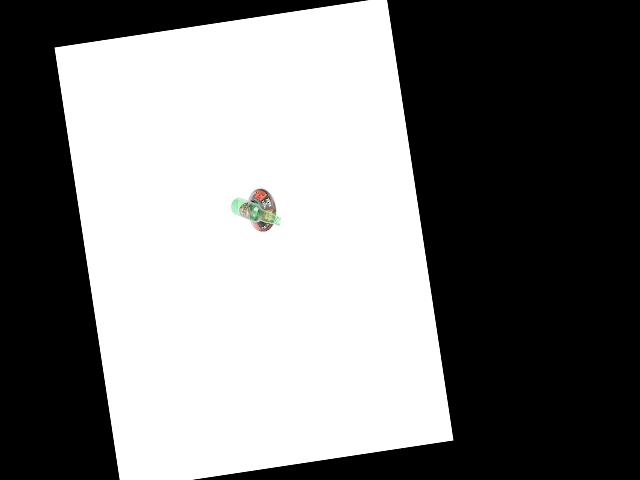beer: (230, 191, 282, 231)
